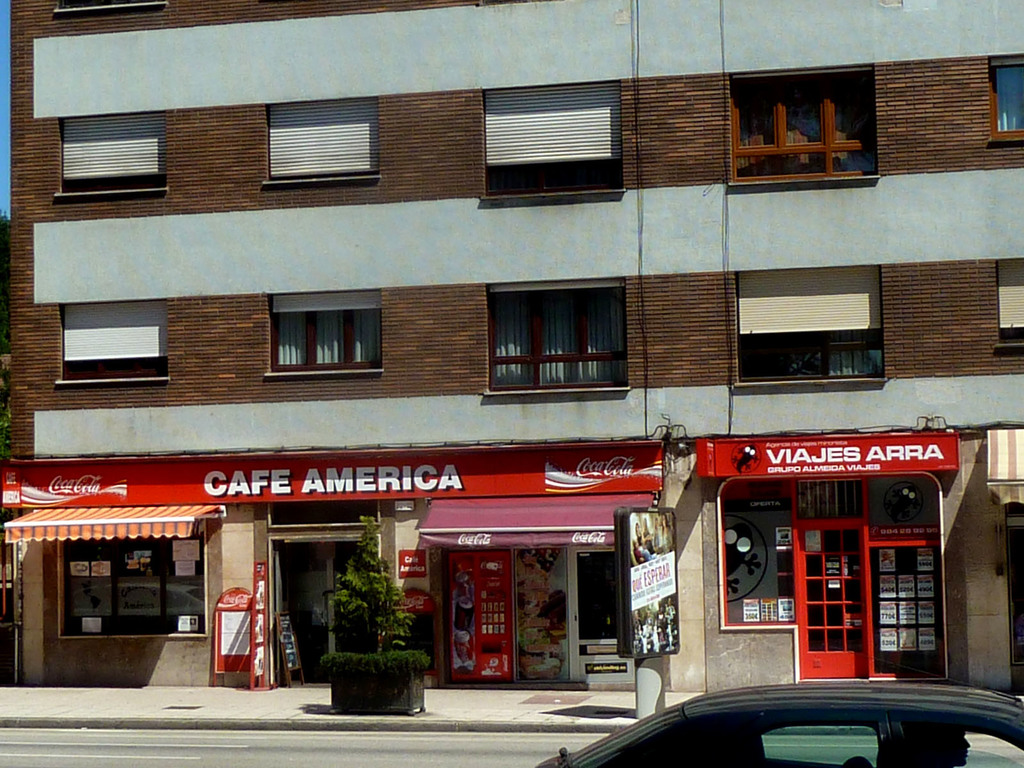Car: (531, 684, 1022, 767)
